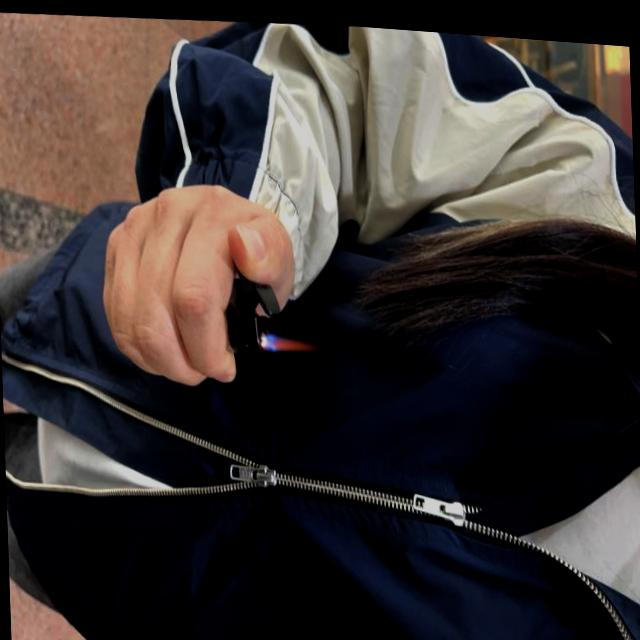Fire: (265, 323, 318, 353)
